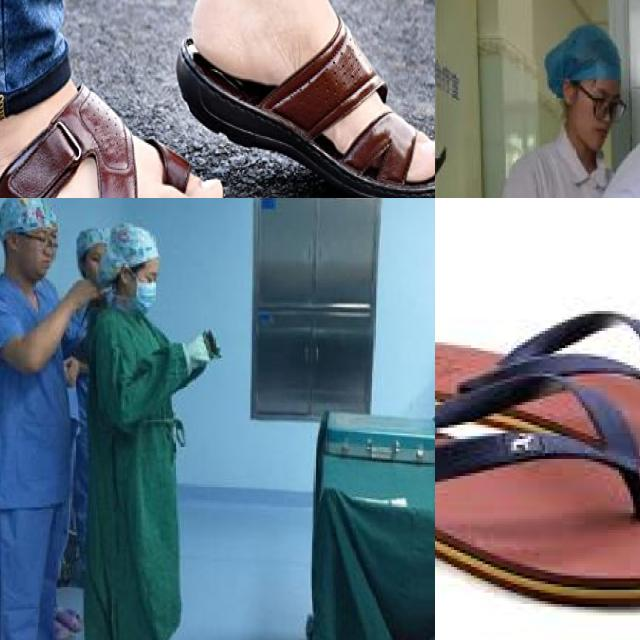Sandals: (435, 287, 640, 617), (177, 0, 435, 198), (0, 67, 236, 198)
face_mask: (132, 261, 164, 309)
face_nomask: (567, 76, 629, 142), (24, 223, 58, 274)
hand_glove: (186, 325, 213, 372)
hand_noglove: (70, 276, 100, 310), (61, 354, 78, 383)
head_nohelmet: (549, 35, 627, 97), (0, 198, 67, 238), (110, 220, 158, 269)
person: (89, 204, 226, 640), (0, 198, 79, 640), (507, 21, 622, 198), (558, 26, 640, 198)
